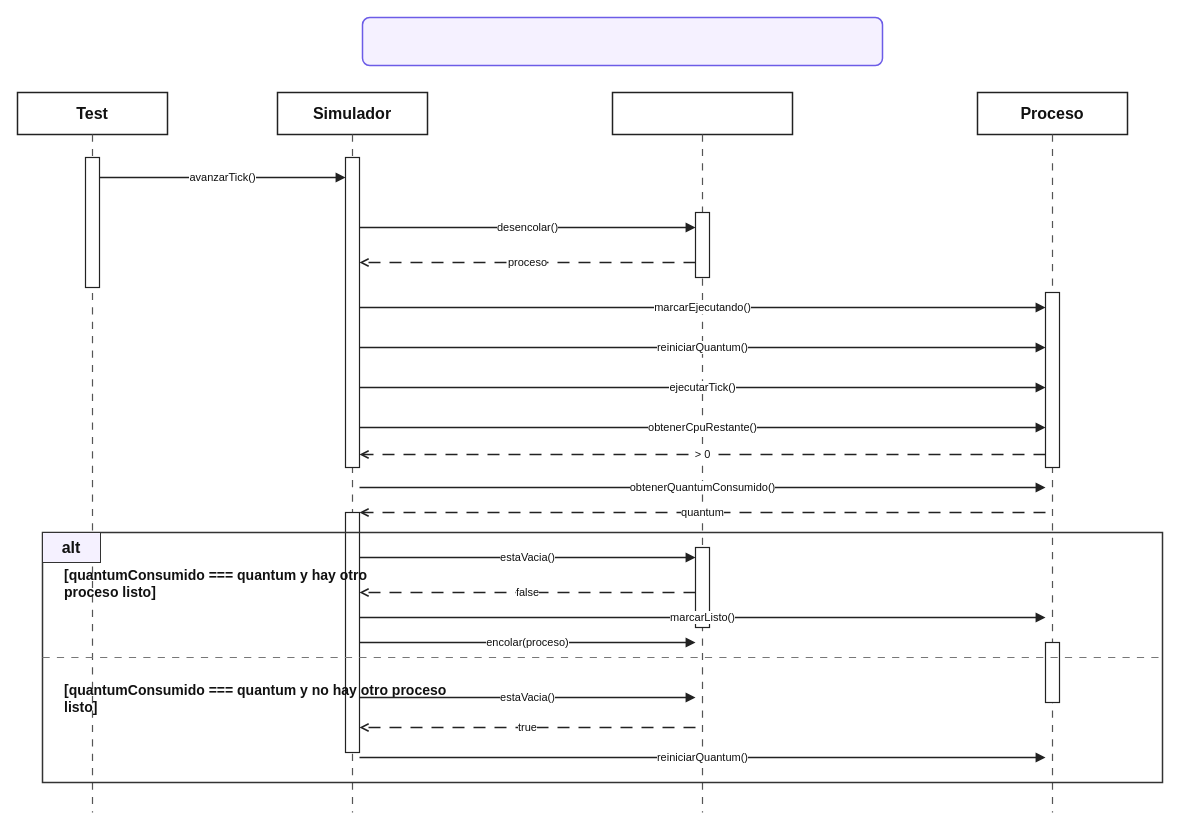
This 1182x832 diagram has some shape labels left out. The box of each missing label's shape, as (x1, y1, x2, y2) in pixels:
PlanificadorRoundRobin: (611, 91, 793, 135)
Tick de Round Robin – RF06/RF07: (361, 16, 883, 66)
